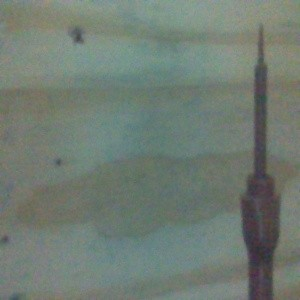solder: (238, 21, 282, 300)
